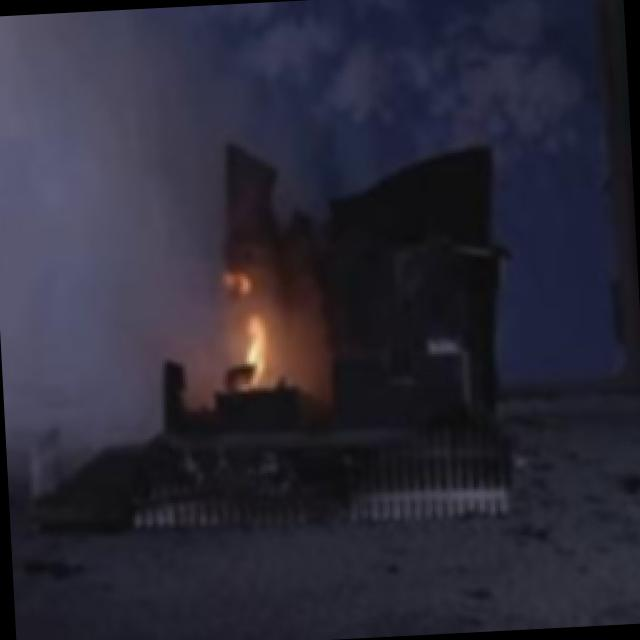fire: (203, 261, 299, 388)
smoke: (0, 6, 201, 351)
